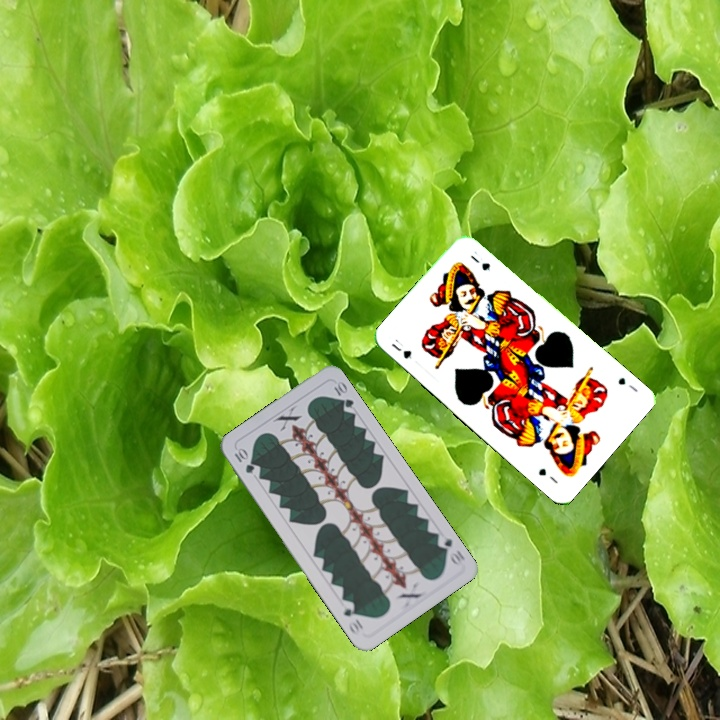G10: (433, 530, 469, 569), (230, 444, 257, 476)
GU: (387, 335, 414, 362), (614, 373, 641, 395)
